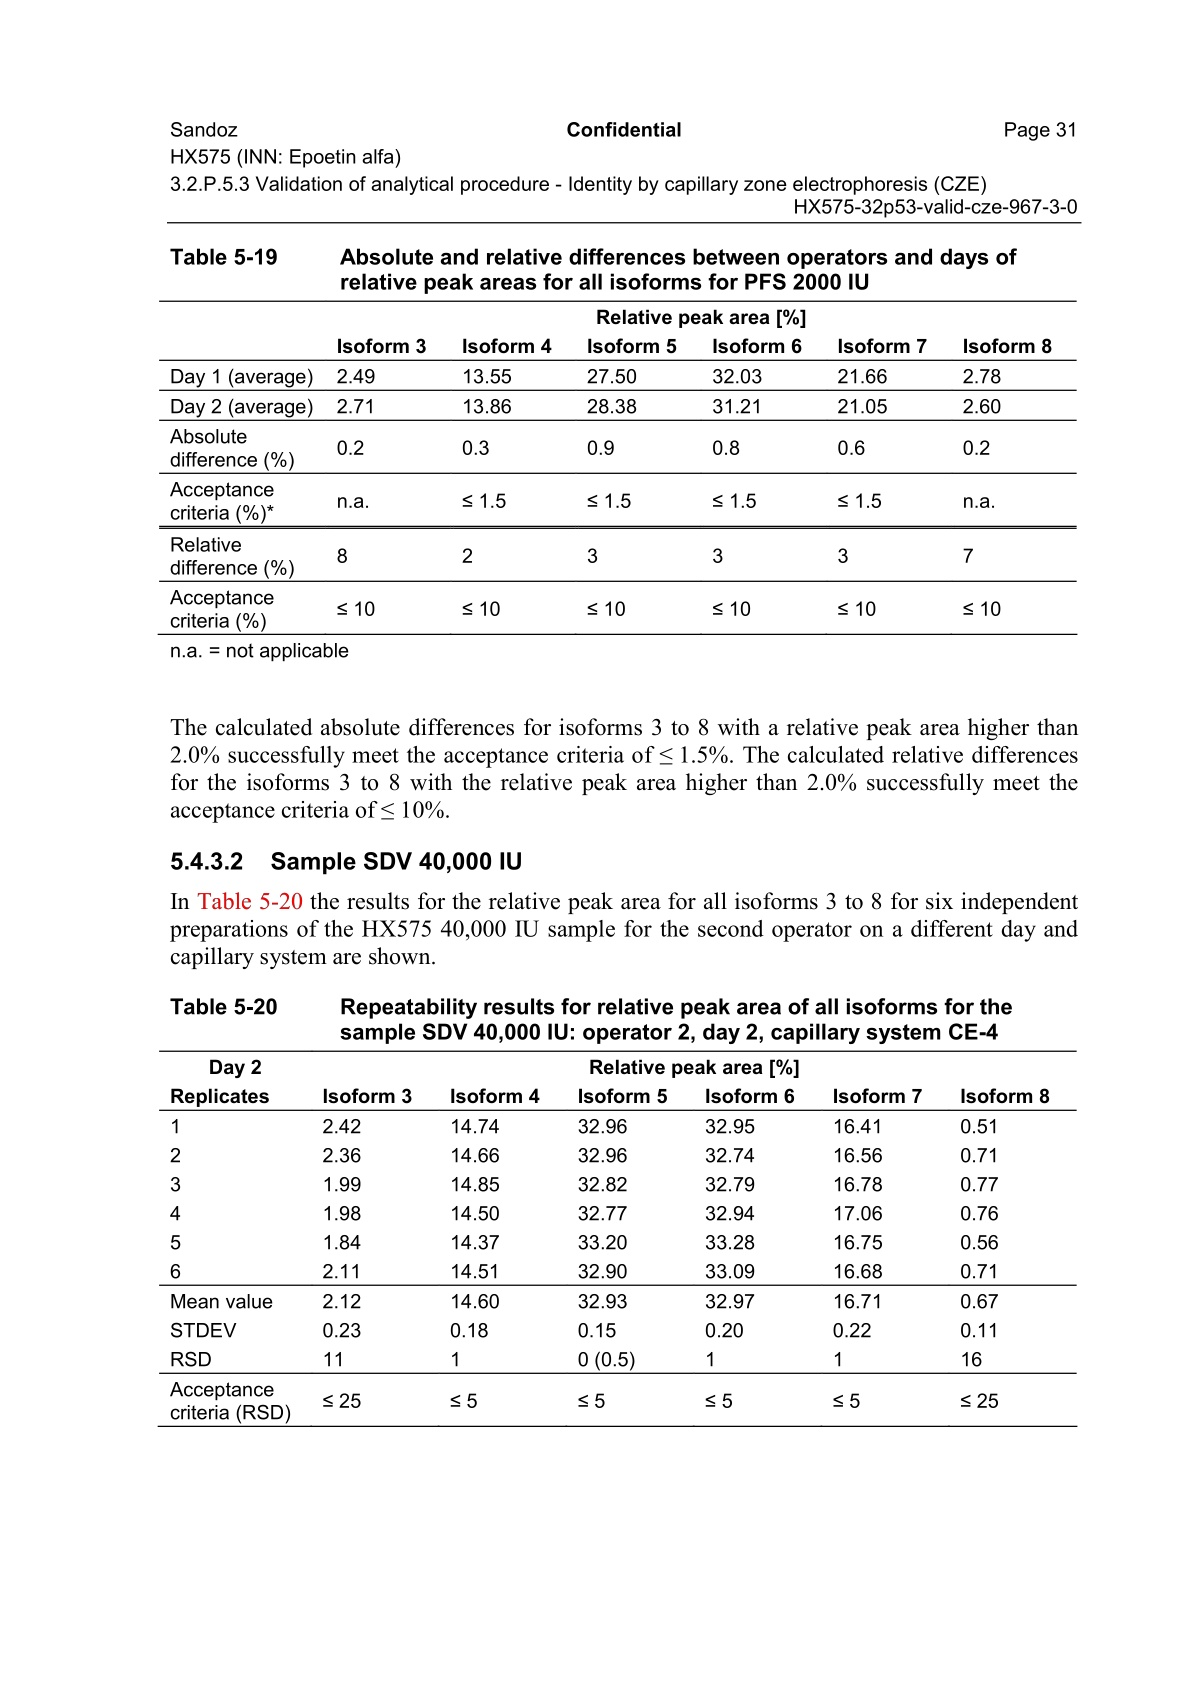partial_lined_merged_cells: (159, 220, 1080, 636), (159, 1050, 1081, 1430)
